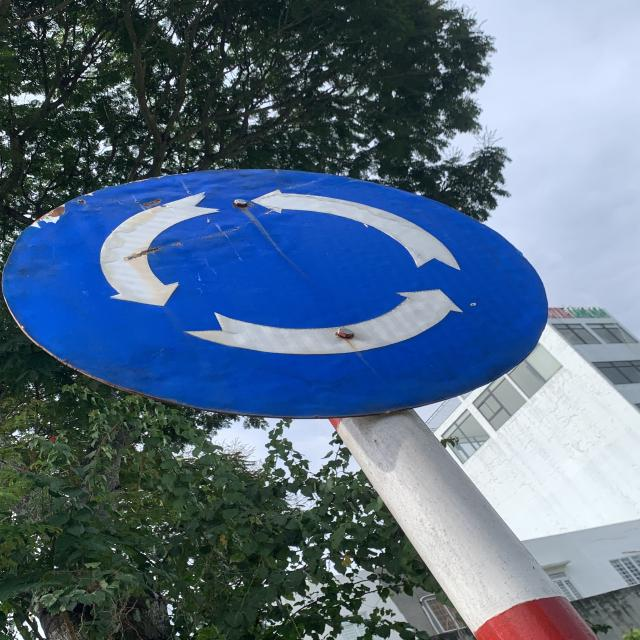Xe_Bus: (4, 164, 549, 416)
